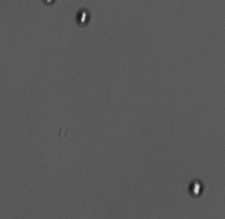Living Cell: (187, 177, 204, 198), (74, 7, 90, 27)
